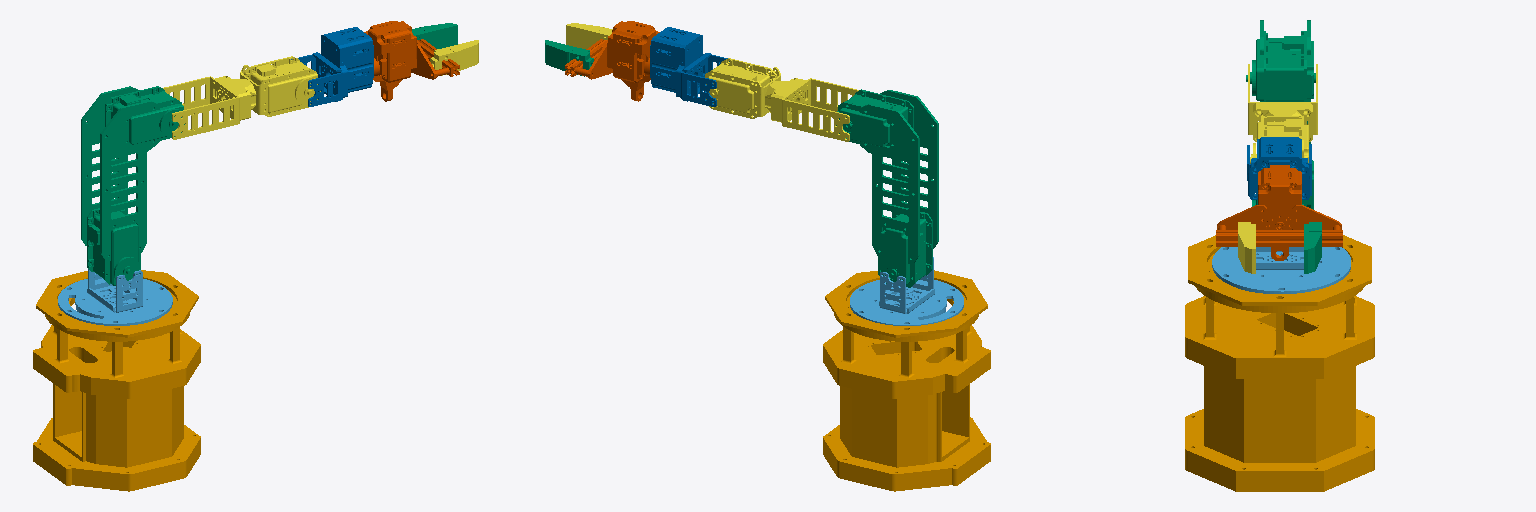
robot.urdf — widowxl:
<?xml version="1.0" encoding="utf-8"?>
<!-- =================================================================================== -->
<!-- |    This document was autogenerated by xacro from widowxl.urdf.xacro             | -->
<!-- |    EDITING THIS FILE BY HAND IS NOT RECOMMENDED                                 | -->
<!-- =================================================================================== -->
<robot name="widowxl">
  <material name="interbotix_black">
    <texture filename="package://interbotix_xsarm_descriptions/meshes/interbotix_black.png"/>
  </material>
  <link name="widowxl/base_link">
    <visual>
      <origin rpy="0 0 0" xyz="0 0 0"/>
      <geometry>
        <mesh filename="package://interbotix_xsarm_descriptions/meshes/meshes_widowxl/base_link.stl" scale="0.001 0.001 0.001"/>
      </geometry>
      <material name="interbotix_black"/>
    </visual>
    <collision>
      <origin rpy="0 0 0" xyz="0 0 0"/>
      <geometry>
        <mesh filename="package://interbotix_xsarm_descriptions/meshes/meshes_widowxl/base_link.stl" scale="0.001 0.001 0.001"/>
      </geometry>
    </collision>
  </link>
  <joint name="waist" type="revolute">
    <axis xyz="0 0 1"/>
    <limit effort="10" lower="-3.1415" upper="3.1415" velocity="1.571"/>
    <origin rpy="0 0 0" xyz="0 0 0.167"/>
    <parent link="widowxl/base_link"/>
    <child link="widowxl/shoulder_link"/>
    <dynamics friction="0.1"/>
  </joint>
  <transmission name="trans_waist">
    <type>transmission_interface/SimpleTransmission</type>
    <joint name="waist">
      <hardwareInterface>hardware_interface/EffortJointInterface</hardwareInterface>
    </joint>
    <actuator name="waist_motor">
      <mechanicalReduction>1</mechanicalReduction>
    </actuator>
  </transmission>
  <link name="widowxl/shoulder_link">
    <visual>
      <origin rpy="0 0 0" xyz="0 0 -0.167"/>
      <geometry>
        <mesh filename="package://interbotix_xsarm_descriptions/meshes/meshes_widowxl/shoulder_link__4__1.stl" scale="0.001 0.001 0.001"/>
      </geometry>
      <material name="interbotix_black"/>
    </visual>
    <collision>
      <origin rpy="0 0 0" xyz="0 0 -0.167"/>
      <geometry>
        <mesh filename="package://interbotix_xsarm_descriptions/meshes/meshes_widowxl/shoulder_link__4__1.stl" scale="0.001 0.001 0.001"/>
      </geometry>
    </collision>
    <inertial>
      <origin rpy="0 0 0" xyz="0 0 -0.167"/>
      <mass value="0.480879"/>
      <inertia ixx="0.0003790000" ixy="0.0000000022" ixz="-0.0000003561" iyy="0.0005557000" iyz="0.0000012245" izz="0.0005889000"/>
    </inertial>
  </link>
  <joint name="shoulder" type="revolute">
    <axis xyz="0 1 0"/>
    <limit effort="20" lower="-1.571" upper="1.571" velocity="1.571"/>
    <origin rpy="0 0 0" xyz="0 0 0.0367"/>
    <parent link="widowxl/shoulder_link"/>
    <child link="widowxl/upper_arm_link"/>
    <dynamics friction="0.1"/>
  </joint>
  <transmission name="trans_shoulder">
    <type>transmission_interface/SimpleTransmission</type>
    <joint name="shoulder">
      <hardwareInterface>hardware_interface/EffortJointInterface</hardwareInterface>
    </joint>
    <actuator name="shoulder_motor">
      <mechanicalReduction>1</mechanicalReduction>
    </actuator>
  </transmission>
  <link name="widowxl/upper_arm_link">
    <visual>
      <origin rpy="0 0 0" xyz="0 0 -0.2"/>
      <geometry>
        <mesh filename="package://interbotix_xsarm_descriptions/meshes/meshes_widowxl/biceps_link_1.stl" scale="0.001 0.001 0.001"/>
      </geometry>
      <material name="interbotix_black"/>
    </visual>
    <collision>
      <origin rpy="0 0 0" xyz="0 0 -0.2"/>
      <geometry>
        <mesh filename="package://interbotix_xsarm_descriptions/meshes/meshes_widowxl/biceps_link_1.stl" scale="0.001 0.001 0.001"/>
      </geometry>
    </collision>
    <inertial>
      <origin rpy="0 0 0" xyz="0 0 -0.2"/>
      <mass value="0.430811"/>
      <inertia ixx="0.0034630000" ixy="-0.0000000001" ixz="-0.0000000002" iyy="0.0035870000" iyz="0.0004272000" izz="0.0004566000"/>
    </inertial>
  </link>
  <joint name="elbow" type="revolute">
    <axis xyz="0 1 0"/>
    <limit effort="15" lower="-1.571" upper="1.571" velocity="1.571"/>
    <origin rpy="0 0 0" xyz="0.05 0 0.145"/>
    <parent link="widowxl/upper_arm_link"/>
    <child link="widowxl/forearm_link"/>
    <dynamics friction="0.1"/>
  </joint>
  <transmission name="trans_elbow">
    <type>transmission_interface/SimpleTransmission</type>
    <joint name="elbow">
      <hardwareInterface>hardware_interface/EffortJointInterface</hardwareInterface>
    </joint>
    <actuator name="elbow_motor">
      <mechanicalReduction>1</mechanicalReduction>
    </actuator>
  </transmission>
  <link name="widowxl/forearm_link">
    <visual>
      <origin rpy="0 0 0" xyz="-0.05 0 -0.347"/>
      <geometry>
        <mesh filename="package://interbotix_xsarm_descriptions/meshes/meshes_widowxl/forearm_link_1.stl" scale="0.001 0.001 0.001"/>
      </geometry>
      <material name="interbotix_black"/>
    </visual>
    <collision>
      <origin rpy="0 0 0" xyz="-0.05 0 -0.347"/>
      <geometry>
        <mesh filename="package://interbotix_xsarm_descriptions/meshes/meshes_widowxl/forearm_link_1.stl" scale="0.001 0.001 0.001"/>
      </geometry>
    </collision>
    <inertial>
      <origin rpy="0 0 0" xyz="-0.05 0 -0.347"/>
      <mass value="0.297673"/>
      <inertia ixx="0.0021760000" ixy="-0.0000030658" ixz="0.0000000000" iyy="0.0000575700" iyz="0.0000000000" izz="0.0021860000"/>
    </inertial>
  </link>
  <joint name="wrist_angle" type="revolute">
    <axis xyz="0 1 0"/>
    <limit effort="5" lower="-1.745" upper="1.745" velocity="1.571"/>
    <origin rpy="0 0 0" xyz="0.15 0 0"/>
    <parent link="widowxl/forearm_link"/>
    <child link="widowxl/wrist_link"/>
    <dynamics friction="0.1"/>
  </joint>
  <transmission name="trans_wrist_angle">
    <type>transmission_interface/SimpleTransmission</type>
    <joint name="wrist_angle">
      <hardwareInterface>hardware_interface/EffortJointInterface</hardwareInterface>
    </joint>
    <actuator name="wrist_angle_motor">
      <mechanicalReduction>1</mechanicalReduction>
    </actuator>
  </transmission>
  <link name="widowxl/wrist_link">
    <visual>
      <origin rpy="0 0 0" xyz="-0.2 0 -0.347"/>
      <geometry>
        <mesh filename="package://interbotix_xsarm_descriptions/meshes/meshes_widowxl/wrist_1_1.stl" scale="0.001 0.001 0.001"/>
      </geometry>
      <material name="interbotix_black"/>
    </visual>
    <collision>
      <origin rpy="0 0 0" xyz="-0.2 0 -0.347"/>
      <geometry>
        <mesh filename="package://interbotix_xsarm_descriptions/meshes/meshes_widowxl/wrist_1_1.stl" scale="0.001 0.001 0.001"/>
      </geometry>
    </collision>
    <inertial>
      <origin rpy="0 0 0" xyz="-0.2 0 -0.347"/>
      <mass value="0.084957"/>
      <inertia ixx="0.0000308200" ixy="0.0000000191" ixz="0.0000000023" iyy="0.0000282200" iyz="0.0000025481" izz="0.0000315200"/>
    </inertial>
  </link>
  <joint name="wrist_rotate" type="revolute">
    <axis xyz="1 0 0"/>
    <limit effort="1" lower="-2.167" upper="2.167" velocity="1.571"/>
    <origin rpy="0 0 0" xyz="0.08 0 0"/>
    <parent link="widowxl/wrist_link"/>
    <child link="widowxl/wrist_2_link"/>
    <dynamics friction="0.1"/>
  </joint>
  <transmission name="trans_wrist_rotate">
    <type>transmission_interface/SimpleTransmission</type>
    <joint name="wrist_rotate">
      <hardwareInterface>hardware_interface/EffortJointInterface</hardwareInterface>
    </joint>
    <actuator name="wrist_rotate_motor">
      <mechanicalReduction>1</mechanicalReduction>
    </actuator>
  </transmission>
  <link name="widowxl/wrist_2_link">
    <visual>
      <origin rpy="0 0 0" xyz="-0.28 0.0 -0.347"/>
      <geometry>
        <mesh filename="package://interbotix_xsarm_descriptions/meshes/meshes_widowxl/wrist_2_1.stl" scale="0.001 0.001 0.001"/>
      </geometry>
      <material name="interbotix_black"/>
    </visual>
    <collision>
      <origin rpy="0 0 0" xyz="-0.28 0.0 -0.347"/>
      <geometry>
        <mesh filename="package://interbotix_xsarm_descriptions/meshes/meshes_widowxl/wrist_2_1.stl" scale="0.001 0.001 0.001"/>
      </geometry>
    </collision>
    <inertial>
      <origin rpy="0 0 0" xyz="-0.28 0.0 -0.347"/>
      <mass value="0.072885"/>
      <inertia ixx="0.0000253700" ixy="0.0000000000" ixz="0.0000000000" iyy="0.0000183600" iyz="0.0000004340" izz="0.0000167400"/>
    </inertial>
  </link>
  <joint name="ee_arm" type="fixed">
    <axis xyz="1 0 0"/>
    <origin rpy="0 0 0" xyz="0.043 0 0"/>
    <parent link="widowxl/wrist_2_link"/>
    <child link="widowxl/ee_arm_link"/>
  </joint>
  <link name="widowxl/ee_arm_link">
    <inertial>
      <mass value="0.001"/>
      <inertia ixx="0.001" ixy="0" ixz="0" iyy="0.001" iyz="0" izz="0.001"/>
    </inertial>
  </link>
  <joint name="gripper" type="continuous">
    <axis xyz="1 0 0"/>
    <limit effort="1" velocity="3.14159265359"/>
    <origin rpy="0 0 0" xyz="0.0055 0 0"/>
    <parent link="widowxl/ee_arm_link"/>
    <child link="widowxl/gripper_prop_link"/>
    <dynamics friction="0.1"/>
  </joint>
  <transmission name="trans_gripper">
    <type>transmission_interface/SimpleTransmission</type>
    <joint name="gripper">
      <hardwareInterface>hardware_interface/EffortJointInterface</hardwareInterface>
    </joint>
    <actuator name="gripper_motor">
      <mechanicalReduction>1</mechanicalReduction>
    </actuator>
  </transmission>
  <link name="widowxl/gripper_prop_link">
    <inertial>
      <mass value="0.00434"/>
      <inertia ixx="0.0000005923" ixy="0.0000000000" ixz="0.0000003195" iyy="0.0000011156" iyz="-0.0000000004" izz="0.0000005743"/>
    </inertial>
  </link>
  <!-- If the AR tag is being used, then add the AR tag mount -->
  <!-- If the gripper bar is being used, then also add the gripper bar -->
  <joint name="gripper_bar" type="fixed">
    <axis xyz="1 0 0"/>
    <origin rpy="0 0 0" xyz="0 0 0"/>
    <parent link="widowxl/ee_arm_link"/>
    <child link="widowxl/gripper_bar_link"/>
  </joint>
  <link name="widowxl/gripper_bar_link">
    <inertial>
      <origin rpy="0 0 1.57079632679" xyz="0.0096870000 0.0000008177 0.0049620000"/>
      <mass value="0.034199"/>
      <inertia ixx="0.0000074125" ixy="-0.0000000008" ixz="-0.0000000006" iyy="0.0000284300" iyz="-0.0000013889" izz="0.0000286000"/>
    </inertial>
  </link>
  <joint name="ee_bar" type="fixed">
    <axis xyz="1 0 0"/>
    <origin rpy="0 0 0" xyz="0.023 0 0"/>
    <parent link="widowxl/gripper_bar_link"/>
    <child link="widowxl/fingers_link"/>
  </joint>
  <link name="widowxl/fingers_link">
    <inertial>
      <mass value="0.001"/>
      <inertia ixx="0.001" ixy="0" ixz="0" iyy="0.001" iyz="0" izz="0.001"/>
    </inertial>
  </link>
  <!-- If the gripper fingers are being used, add those as well -->
  <joint name="left_finger" type="prismatic">
    <axis xyz="0 1 0"/>
    <limit effort="5" lower="0.015" upper="0.037" velocity="1"/>
    <origin rpy="0 0 0" xyz="0 0 0"/>
    <parent link="widowxl/fingers_link"/>
    <child link="widowxl/left_finger_link"/>
    <dynamics friction="0.1"/>
  </joint>
  <transmission name="trans_left_finger">
    <type>transmission_interface/SimpleTransmission</type>
    <joint name="left_finger">
      <hardwareInterface>hardware_interface/EffortJointInterface</hardwareInterface>
    </joint>
    <actuator name="left_finger_motor">
      <mechanicalReduction>1</mechanicalReduction>
    </actuator>
  </transmission>
  <link name="widowxl/left_finger_link">
    <visual>
      <origin rpy="0 0 0" xyz="-0.346 -0.007 -0.347"/>
      <geometry>
        <mesh filename="package://interbotix_xsarm_descriptions/meshes/meshes_widowxl/finger.stl" scale="0.001 0.001 0.001"/>
      </geometry>
      <material name="interbotix_black"/>
    </visual>
    <collision>
      <origin rpy="0 0 0" xyz="-0.346 -0.007 -0.347"/>
      <geometry>
        <mesh filename="package://interbotix_xsarm_descriptions/meshes/meshes_widowxl/finger.stl" scale="0.001 0.001 0.001"/>
      </geometry>
    </collision>
    <inertial>
      <origin rpy="0 0 0" xyz="-0.346 -0.007 -0.347"/>
      <mass value="0.016246"/>
      <inertia ixx="0.0000047310" ixy="-0.0000004560" ixz="0.0000000000" iyy="0.0000015506" iyz="0.0000000000" izz="0.0000037467"/>
    </inertial>
  </link>
  <joint name="right_finger" type="prismatic">
    <axis xyz="0 1 0"/>
    <limit effort="5" lower="-0.037" upper="-0.015" velocity="1"/>
    <origin rpy="0 0 0" xyz="0 0 0"/>
    <parent link="widowxl/fingers_link"/>
    <child link="widowxl/right_finger_link"/>
    <dynamics friction="0.1"/>
    <mimic joint="left_finger" multiplier="-1" offset="0"/>
  </joint>
  <transmission name="trans_right_finger">
    <type>transmission_interface/SimpleTransmission</type>
    <joint name="right_finger">
      <hardwareInterface>hardware_interface/EffortJointInterface</hardwareInterface>
    </joint>
    <actuator name="right_finger_motor">
      <mechanicalReduction>1</mechanicalReduction>
    </actuator>
  </transmission>
  <link name="widowxl/right_finger_link">
    <visual>
      <origin rpy="-3.1415 0 0" xyz="-0.346 0.007 0.345"/>
      <geometry>
        <mesh filename="package://interbotix_xsarm_descriptions/meshes/meshes_widowxl/finger.stl" scale="0.001 0.001 0.001"/>
      </geometry>
      <material name="interbotix_black"/>
    </visual>
    <collision>
      <origin rpy="-3.1415 0 0" xyz="-0.346 0.007 0.345"/>
      <geometry>
        <mesh filename="package://interbotix_xsarm_descriptions/meshes/meshes_widowxl/finger.stl" scale="0.001 0.001 0.001"/>
      </geometry>
    </collision>
    <inertial>
      <origin rpy="-3.1415 0 0" xyz="-0.346 0.007 0.345"/>
      <mass value="0.016246"/>
      <inertia ixx="0.0000047310" ixy="0.0000004560" ixz="0.0000000000" iyy="0.0000015506" iyz="0.0000000000" izz="0.0000037467"/>
    </inertial>
  </link>
  <joint name="ee_gripper" type="fixed">
    <axis xyz="1 0 0"/>
    <origin rpy="0 0 0" xyz="0.027575 0 0"/>
    <parent link="widowxl/fingers_link"/>
    <child link="widowxl/ee_gripper_link"/>
  </joint>
  <link name="widowxl/ee_gripper_link">
    <inertial>
      <mass value="0.001"/>
      <inertia ixx="0.001" ixy="0" ixz="0" iyy="0.001" iyz="0" izz="0.001"/>
    </inertial>
  </link>
</robot>

--- Render facts (derived) ---
3 views of the same robot in one strip: view 1: azimuth 30°, elevation 25°; view 2: azimuth 150°, elevation 25°; view 3: azimuth 270°, elevation 25° (orthographic).
Robot: widowxl — 13 links, 12 joints (5 revolute, 1 continuous, 2 prismatic, 4 fixed); root link widowxl/base_link; default pose: all joints at 0 but 2 set to mid-range because 0 is outside their limits (left_finger = 0.026, right_finger = -0.026).
Visible links, largest first — view 1: widowxl/base_link, widowxl/upper_arm_link, widowxl/forearm_link, widowxl/shoulder_link, widowxl/wrist_link, widowxl/wrist_2_link, widowxl/right_finger_link, widowxl/left_finger_link; view 2: widowxl/base_link, widowxl/upper_arm_link, widowxl/forearm_link, widowxl/shoulder_link, widowxl/wrist_link, widowxl/wrist_2_link, widowxl/left_finger_link, widowxl/right_finger_link; view 3: widowxl/base_link, widowxl/wrist_2_link, widowxl/shoulder_link, widowxl/upper_arm_link, widowxl/forearm_link, widowxl/wrist_link, widowxl/right_finger_link, widowxl/left_finger_link.
Link boxes in pixels (left/top/right/bottom): widowxl/base_link: left=33, top=270, right=200, bottom=491; widowxl/upper_arm_link: left=81, top=86, right=184, bottom=285; widowxl/forearm_link: left=163, top=56, right=320, bottom=139; widowxl/shoulder_link: left=58, top=269, right=172, bottom=325; widowxl/wrist_link: left=291, top=27, right=373, bottom=106; widowxl/wrist_2_link: left=364, top=21, right=459, bottom=101; widowxl/right_finger_link: left=430, top=40, right=478, bottom=75; widowxl/left_finger_link: left=412, top=23, right=457, bottom=48; widowxl/base_link: left=823, top=270, right=990, bottom=491; widowxl/upper_arm_link: left=836, top=89, right=938, bottom=287; widowxl/forearm_link: left=705, top=58, right=858, bottom=141; widowxl/shoulder_link: left=850, top=257, right=963, bottom=325; widowxl/wrist_link: left=650, top=27, right=729, bottom=106; widowxl/wrist_2_link: left=565, top=21, right=659, bottom=101; widowxl/left_finger_link: left=545, top=40, right=593, bottom=76; widowxl/right_finger_link: left=566, top=23, right=612, bottom=48; widowxl/base_link: left=1185, top=235, right=1374, bottom=491; widowxl/wrist_2_link: left=1216, top=165, right=1342, bottom=260; widowxl/shoulder_link: left=1212, top=247, right=1350, bottom=293; widowxl/upper_arm_link: left=1246, top=20, right=1315, bottom=209; widowxl/forearm_link: left=1248, top=64, right=1317, bottom=163; widowxl/wrist_link: left=1247, top=137, right=1311, bottom=199; widowxl/right_finger_link: left=1238, top=222, right=1255, bottom=273; widowxl/left_finger_link: left=1304, top=222, right=1321, bottom=273.
Bounding box of the posed robot: 0.4628 × 0.1496 × 0.3851 m (x, y, z).
8 mesh visuals loaded from 7 distinct referenced files (7 binary STL).
